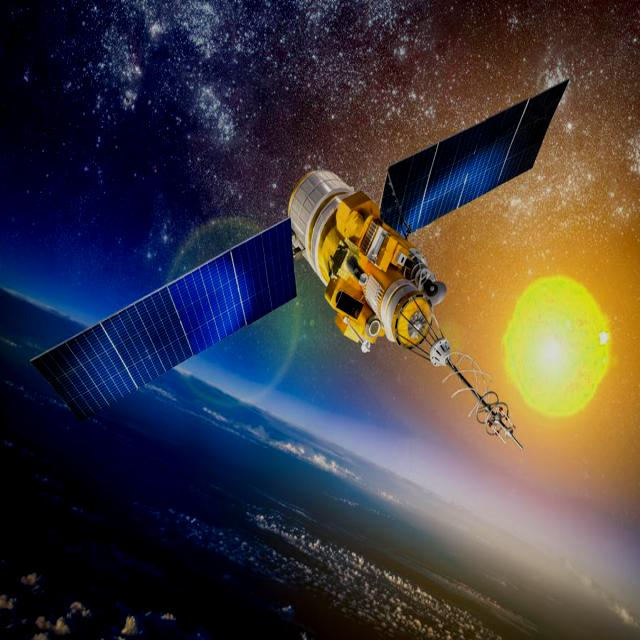medium_debris: (29, 69, 576, 461)
